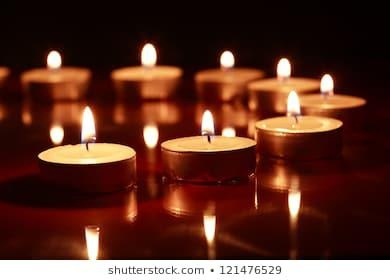fire: (78, 103, 96, 142), (83, 225, 100, 257), (285, 89, 302, 117), (204, 211, 216, 250), (139, 40, 157, 66), (199, 107, 214, 136)
